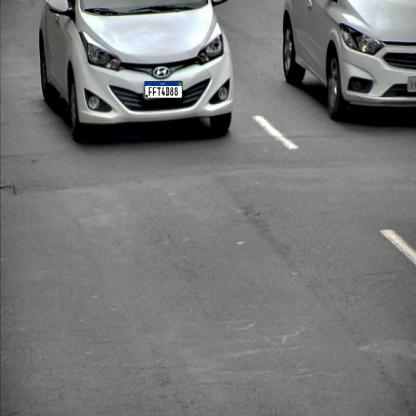PlacaM: (144, 81, 182, 99)
